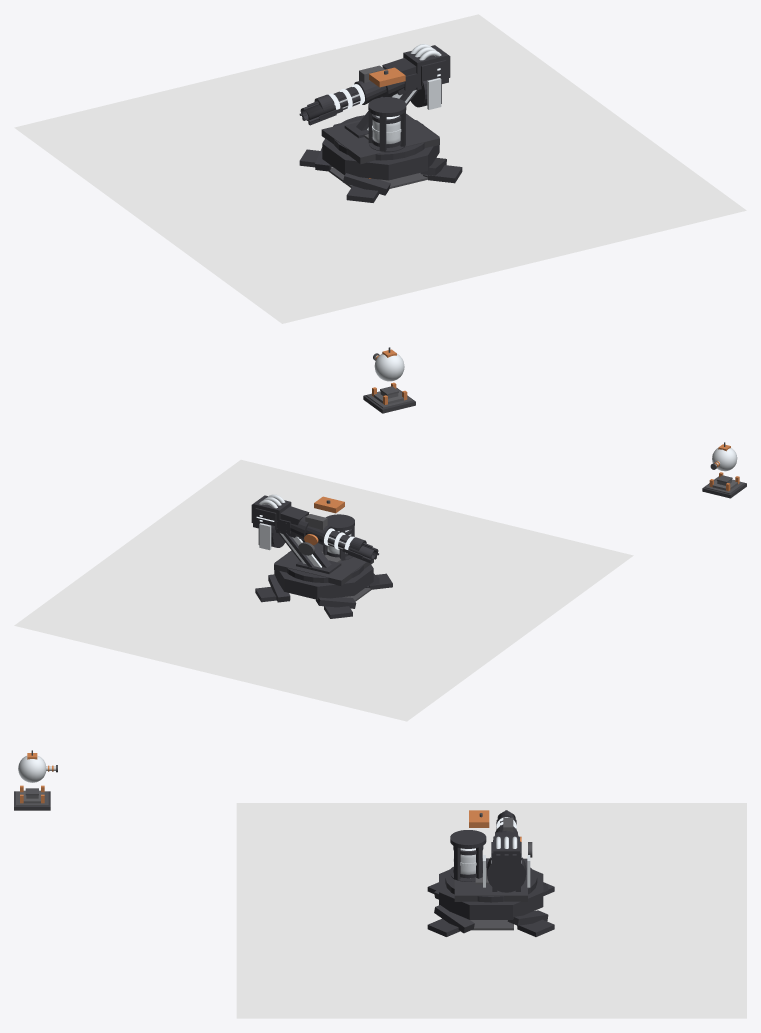
The model's file is colba2.glb.
The picture shows the model from 3 angles, top to bottom: view 1: azimuth 30°, elevation 25°; view 2: azimuth 150°, elevation 25°; view 3: azimuth 270°, elevation 25°; orthographic projection. The views are drawn at different scales.
Visible parts, largest first — view 1: Ground, OctoBase, Колба.004, Колба.006, Turntable, FlaskCap; view 2: Ground, OctoBase, Колба.006, Колба.004, Колба.001; view 3: Ground, OctoBase, Колба.006, Колба.004, BreechNew, FlaskCap, Turntable, Колба.002, Leg3, BreechBlock.
Boxes of the visible parts, x1,y1,x2,y2 form: Ground: (14, 14, 746, 323); OctoBase: (322, 120, 439, 180); Колба.004: (321, 113, 439, 164); Колба.006: (363, 347, 415, 413); Turntable: (334, 115, 426, 160); FlaskCap: (368, 97, 406, 116); Ground: (14, 459, 633, 721); OctoBase: (274, 554, 373, 599); Колба.006: (702, 442, 746, 498); Колба.004: (274, 543, 373, 586); Колба.001: (304, 496, 344, 545); Ground: (236, 803, 746, 1018); OctoBase: (439, 869, 543, 919); Колба.006: (14, 750, 57, 810); Колба.004: (454, 858, 527, 901); BreechNew: (493, 836, 519, 877); FlaskCap: (450, 830, 486, 848); Turntable: (445, 858, 537, 902); Колба.002: (470, 813, 532, 930); Leg3: (434, 905, 474, 933); BreechBlock: (487, 857, 526, 892).
Size of the model in its own units: 51.8 by 10.56 by 71.8.
Materials: 16 (3 with a texture image).
